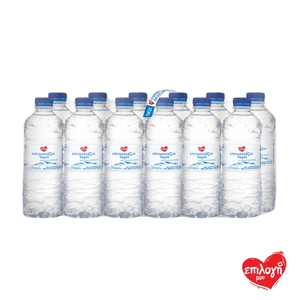PlasticBottle: (219, 98, 260, 217), (103, 98, 143, 215), (64, 98, 102, 218), (24, 96, 62, 216), (144, 97, 181, 216), (184, 99, 219, 215)
